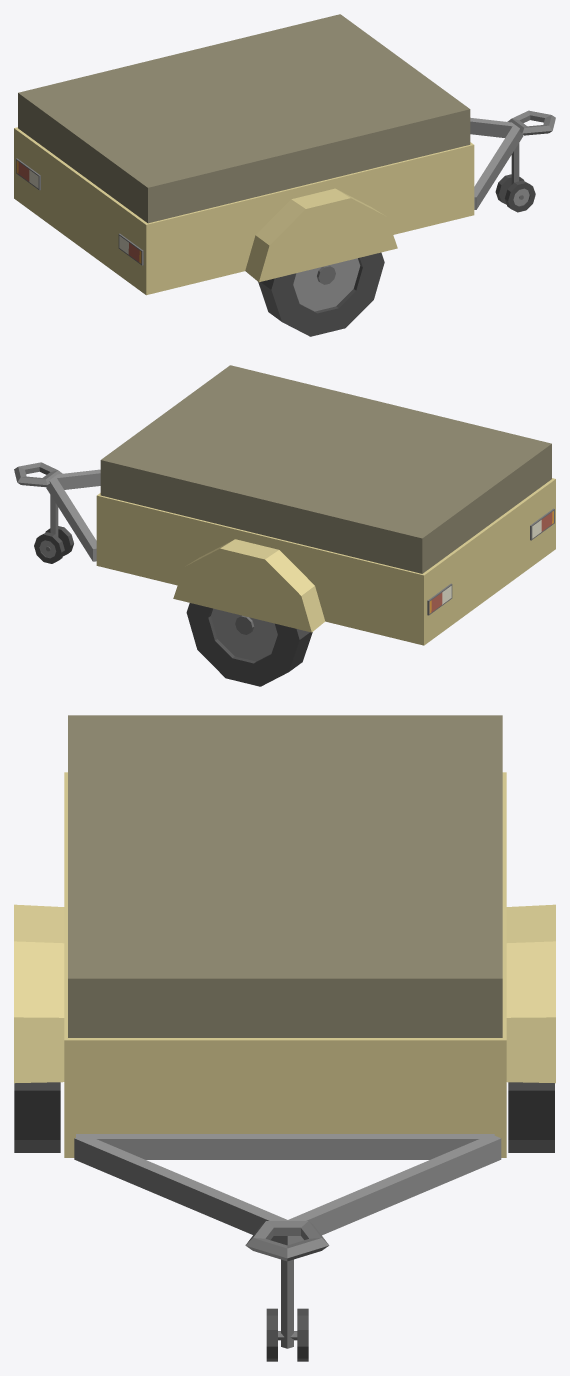
File: kar13.fbx
The picture shows the model from 3 angles, top to bottom: view 1: azimuth 30°, elevation 25°; view 2: azimuth 150°, elevation 25°; view 3: azimuth 270°, elevation 25°; orthographic projection. The views are drawn at different scales.
Parts seen in each view (by area): view 1: Cylinder_4, Cylinder, Cylinder_3; view 2: Cylinder_4, Cylinder_3_2, Cylinder_8; view 3: Cylinder_4, Cylinder_3_2, Cylinder.
Part boxes in pixels (x1,y1,x2,y2): Cylinder_4: (14,14,555,295); Cylinder: (258,252,384,336); Cylinder_3: (504,180,535,212); Cylinder_4: (14,365,555,645); Cylinder_3_2: (186,603,312,686); Cylinder_8: (34,532,64,563); Cylinder_4: (14,715,555,1348); Cylinder_3_2: (508,1082,554,1152); Cylinder: (14,1082,60,1152).
Size of the model in its own units: 456 by 158 by 267.
